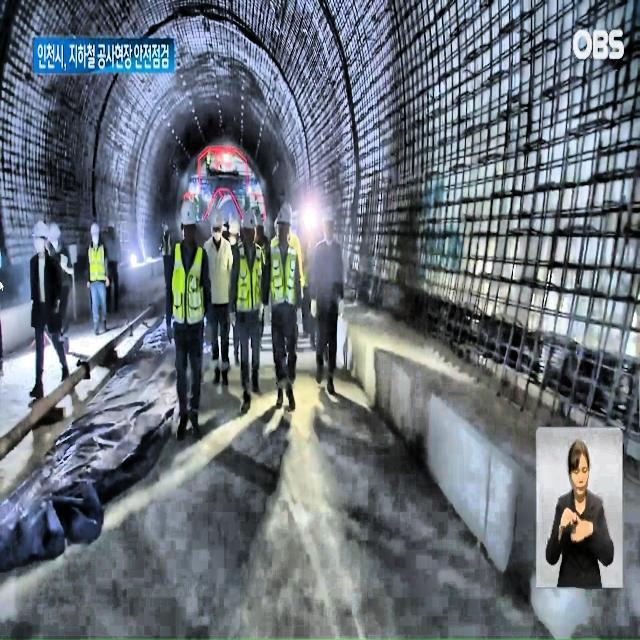safety_helmet: (276, 200, 293, 227), (179, 202, 197, 225), (208, 206, 224, 228), (47, 224, 64, 244), (243, 206, 257, 230), (32, 224, 48, 244), (320, 207, 335, 226), (228, 217, 240, 237), (88, 222, 100, 238)
safety_jacket: (168, 243, 204, 325), (236, 243, 264, 316), (270, 239, 299, 308), (88, 245, 104, 286)
